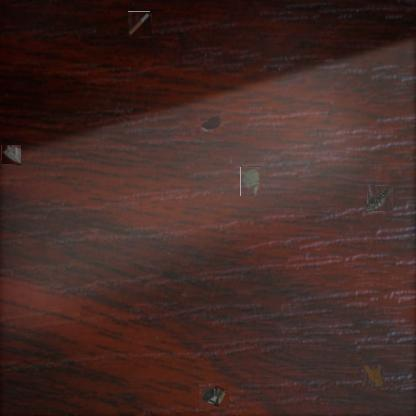dirty: (199, 383, 229, 409), (367, 185, 393, 211), (240, 166, 261, 196), (128, 12, 151, 36), (1, 145, 22, 165)
liquid: (362, 366, 384, 386), (200, 115, 222, 133)
